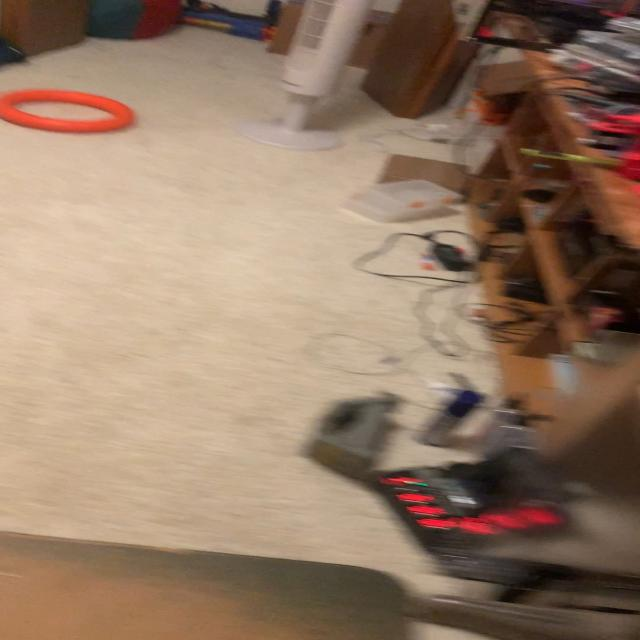notes: (2, 92, 137, 135)
